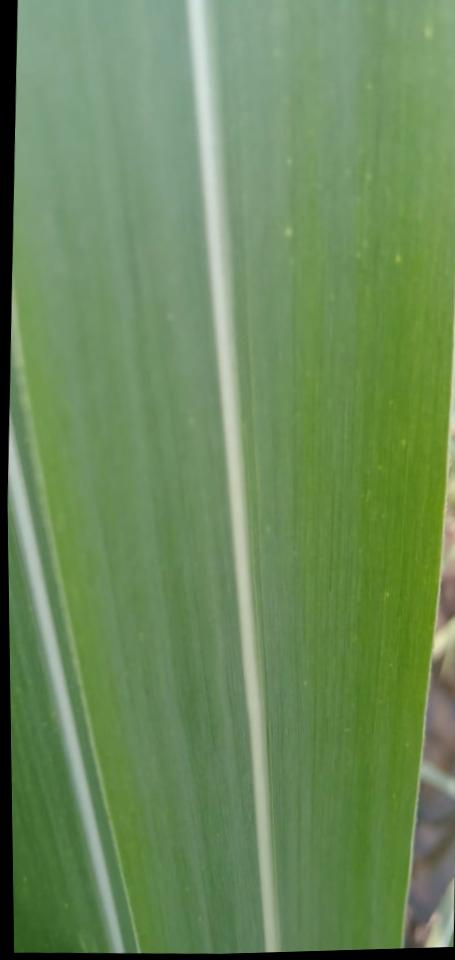Healthy: (201, 0, 455, 952), (13, 0, 263, 953), (8, 511, 112, 952)
